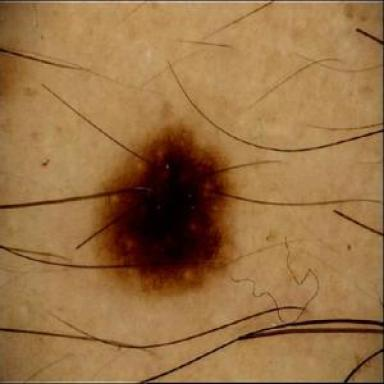Melanoma: (101, 126, 230, 297)
